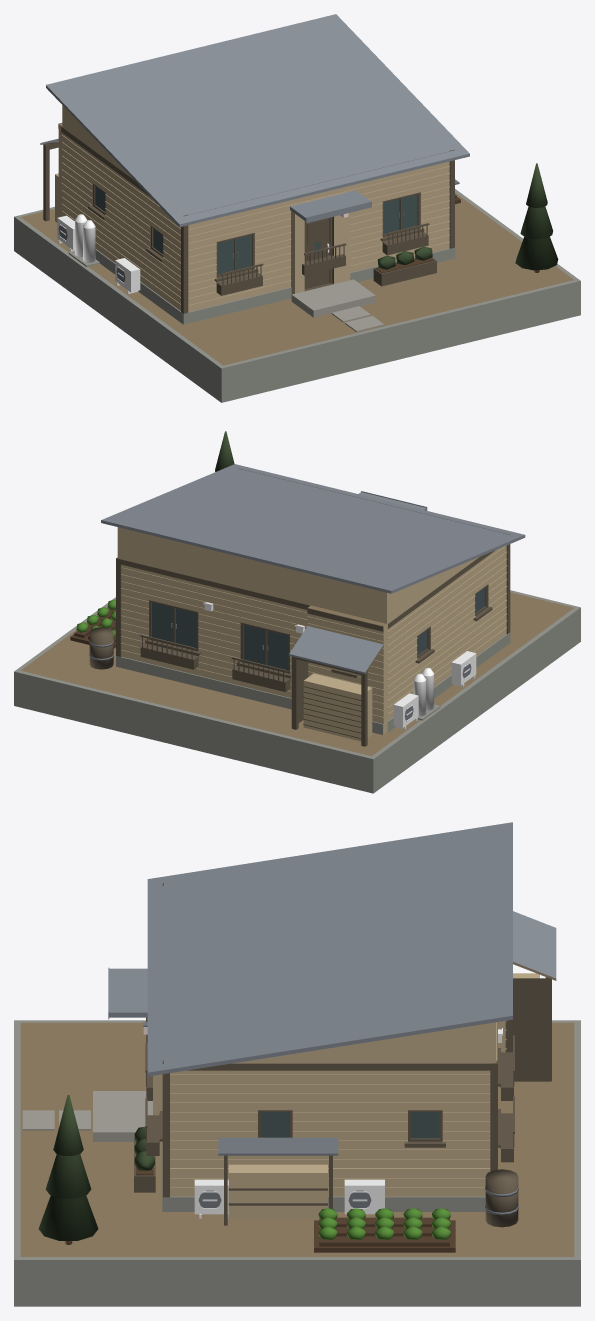
The model's file is site_hut1_close.fbx.
3 renders of one model, top to bottom at view 1: azimuth 30°, elevation 25°; view 2: azimuth 150°, elevation 25°; view 3: azimuth 270°, elevation 25°, orthographic. The views are drawn at different scales.
Parts seen in each view (by area): view 1: a2015.site_hut1.close; view 2: a2015.site_hut1.close; view 3: a2015.site_hut1.close.
Boxes of the visible parts, left/top/right/bottom form: a2015.site_hut1.close: left=14, top=14, right=580, bottom=402; a2015.site_hut1.close: left=14, top=431, right=580, bottom=793; a2015.site_hut1.close: left=14, top=822, right=580, bottom=1306.
Bounding box in the file's own units: 10.4 × 5.05 × 10.4.
